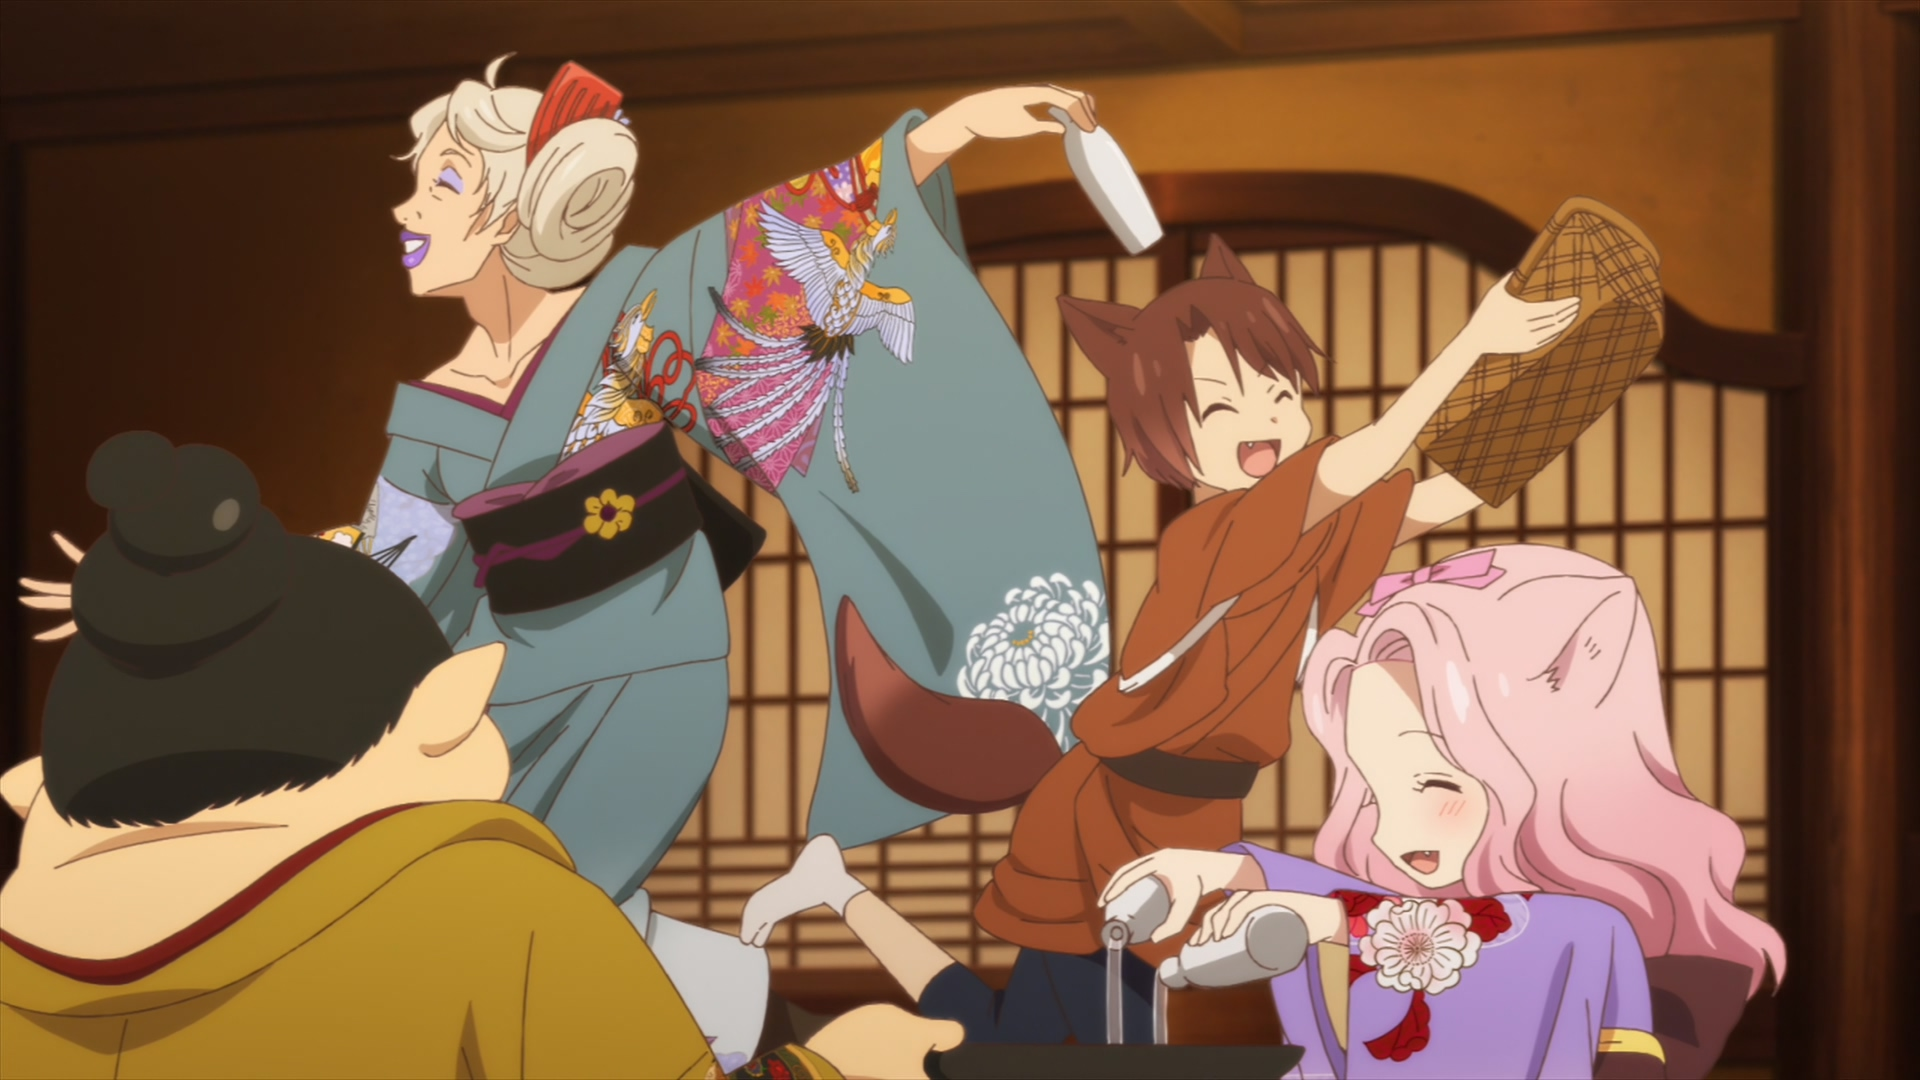其他: (18, 51, 1096, 1080), (1, 429, 964, 1080)
枣: (837, 235, 1578, 1042)
莲: (1096, 546, 1784, 1080)
